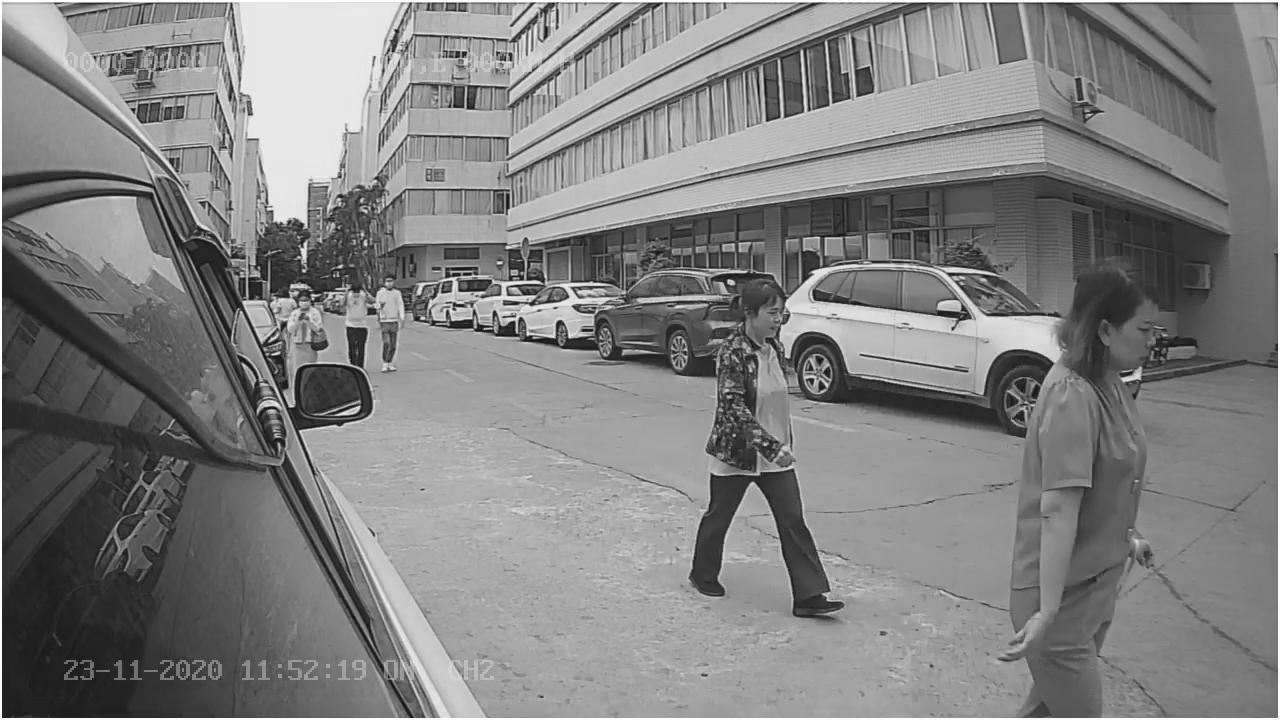person: (1008, 257, 1161, 695), (701, 272, 818, 608)
